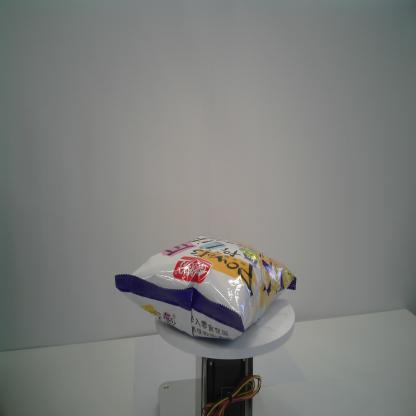Puffed Food: (112, 234, 298, 344)
